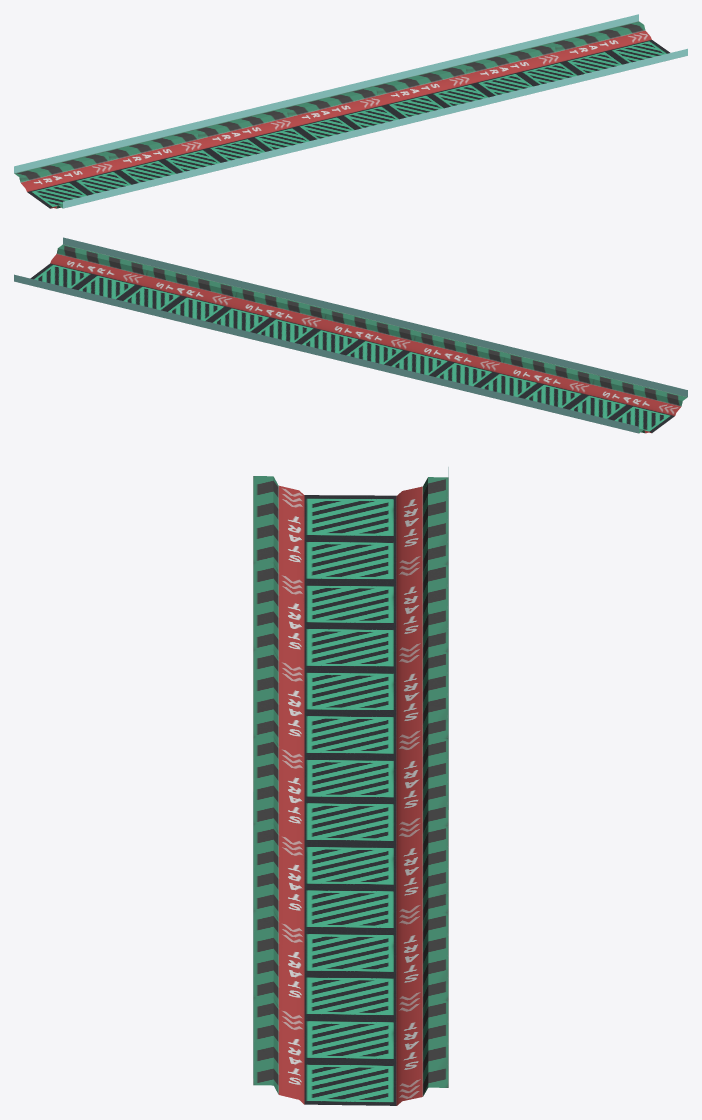
File: GEO-Track_01_Starting_Line_v002.fbx
3 views of the same model, one above another, from view 1: azimuth 30°, elevation 25°; view 2: azimuth 150°, elevation 25°; view 3: azimuth 270°, elevation 25° (orthographic). The views are drawn at different scales.
Visible parts, largest first — view 1: GEO-Track_01_Segment_Starting_Line_v002_B; view 2: GEO-Track_01_Segment_Starting_Line_v002_B; view 3: GEO-Track_01_Segment_Starting_Line_v002_B.
Part boxes in pixels (bbox=[...]): GEO-Track_01_Segment_Starting_Line_v002_B: bbox=[14, 14, 687, 208]; GEO-Track_01_Segment_Starting_Line_v002_B: bbox=[14, 237, 687, 433]; GEO-Track_01_Segment_Starting_Line_v002_B: bbox=[253, 467, 448, 1105].
Size of the model in its own units: 28000 by 743 by 3808.
